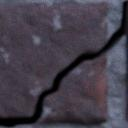brick: (125, 2, 127, 120)
broken_brick: (0, 2, 107, 117), (35, 55, 106, 123)
crack: (0, 0, 127, 127)
